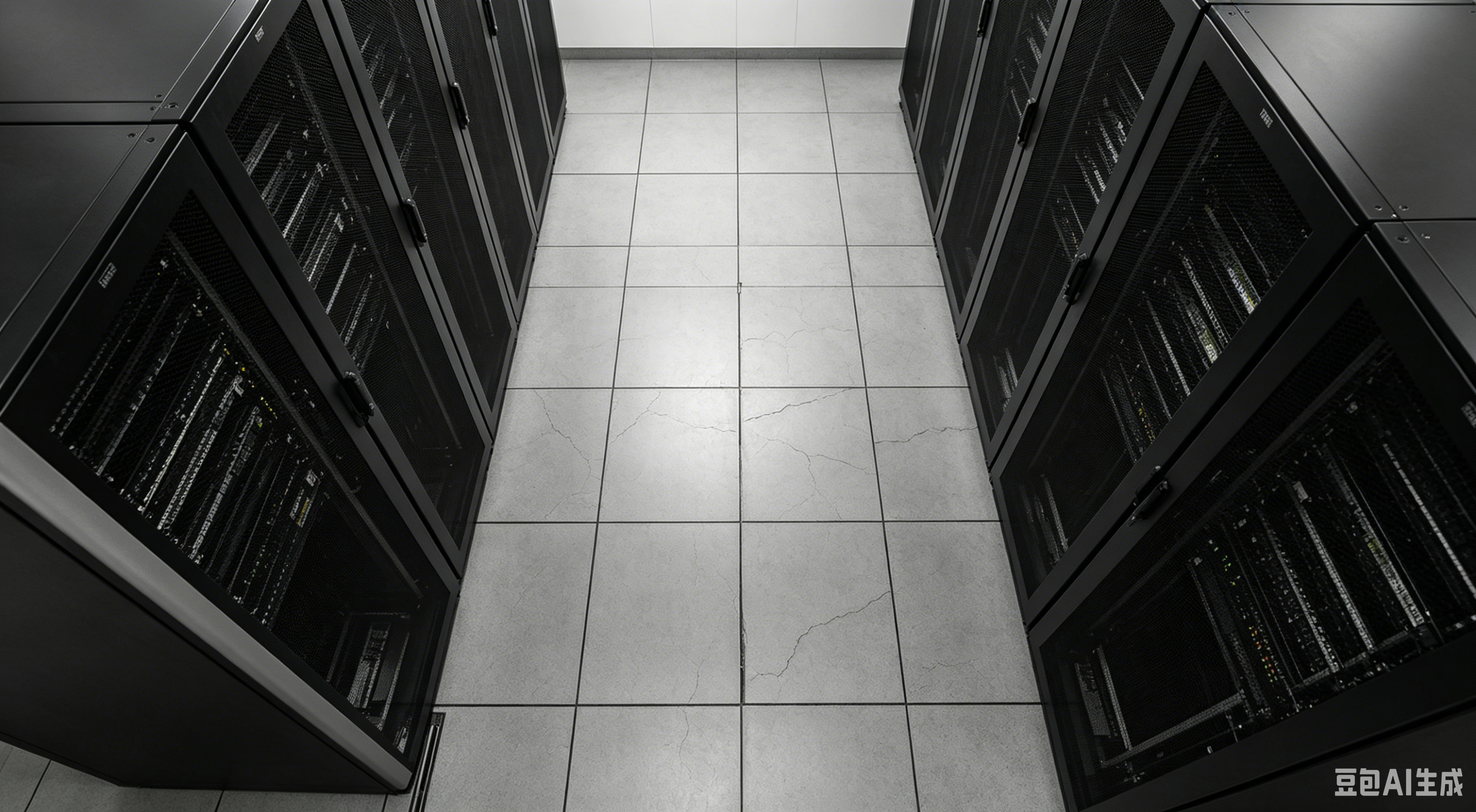floor_defect: (756, 574, 889, 693), (737, 372, 861, 428), (531, 384, 599, 482), (615, 397, 731, 444), (873, 422, 999, 456), (792, 444, 874, 487)
